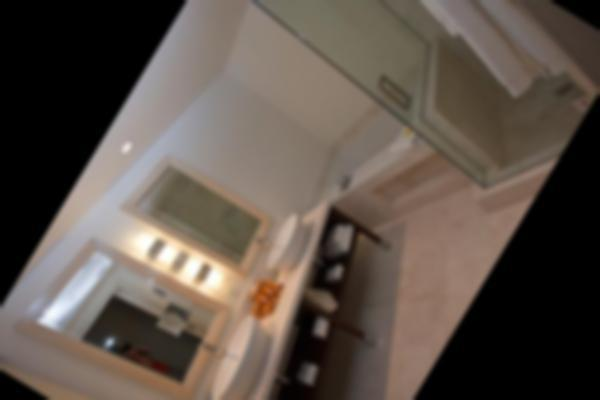Ducha: (183, 0, 600, 214)
Lavamanos: (174, 298, 286, 400), (243, 201, 317, 276)
